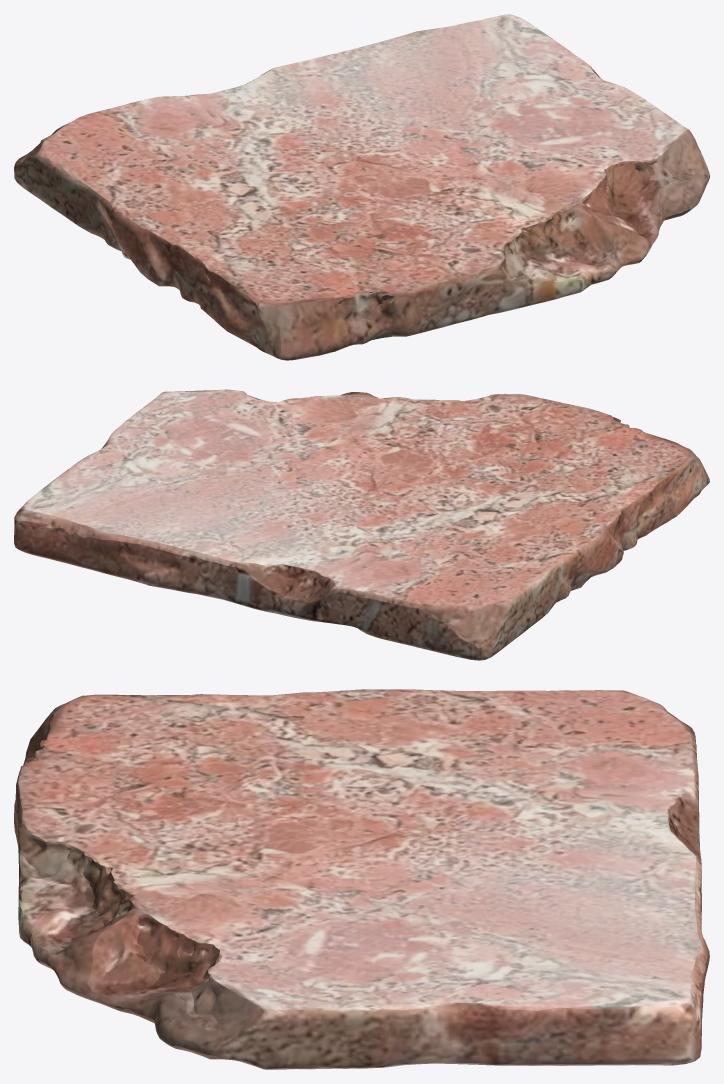
File: remnant-rosa.glb
The picture shows the model from 3 angles, top to bottom: view 1: azimuth 30°, elevation 25°; view 2: azimuth 150°, elevation 25°; view 3: azimuth 270°, elevation 25°; orthographic projection. The views are drawn at different scales.
Parts seen in each view (by area): view 1: geometry_0; view 2: geometry_0; view 3: geometry_0.
Part boxes in pixels (box(x1,y1,x2,y2)): geometry_0: box(14, 14, 709, 360); geometry_0: box(14, 389, 709, 660); geometry_0: box(14, 689, 709, 1069).
Size of the model in its own units: 0.35 by 0.0314 by 0.3163.
Materials: 1 (1 with a texture image).
